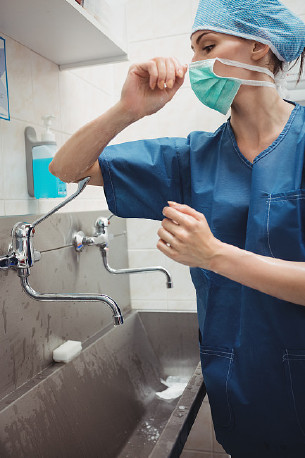face_mask: (188, 19, 251, 111)
